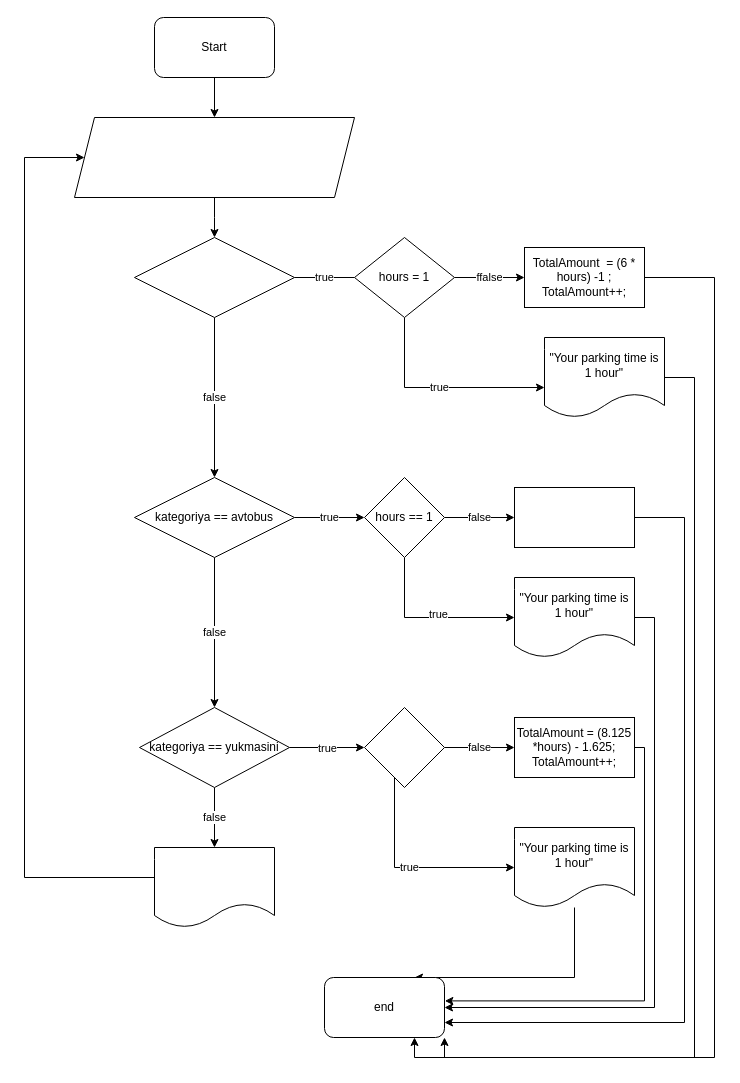
Image size: 740x1083. Some labels were removed from this diagram. Each missing label, with the centre of its shape:
"Please type here your vhecile type and parking hours": (214,887)
hours ==1: (404,747)
kategoriya = ? hours = ? TotalAmount = 0: (214,157)
kategoriya == masin: (214,277)
TotalAmount = (7.29*hours) -1.29; TotalAmount++;: (574,517)
